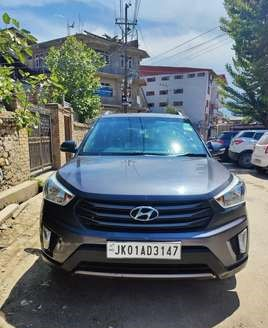JK01AD3147: (106, 241, 180, 259)
